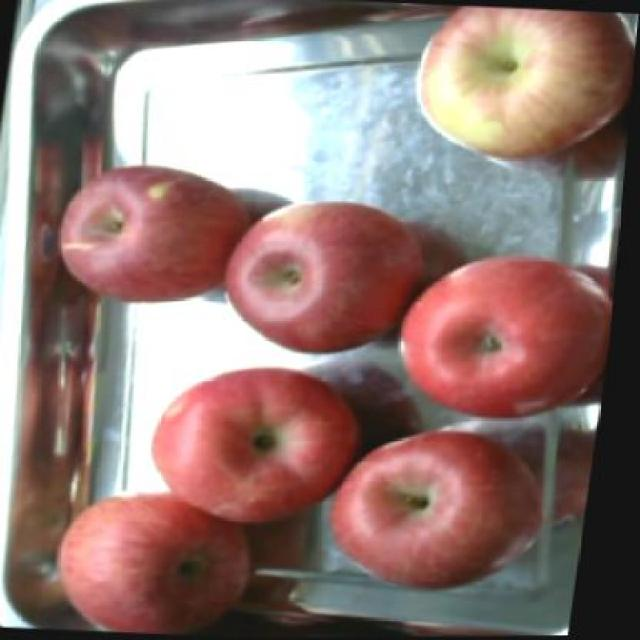Fresh Apple: (390, 268, 622, 422), (417, 9, 628, 168), (226, 208, 434, 358), (338, 443, 536, 585), (63, 494, 242, 640), (164, 380, 344, 518), (56, 171, 230, 300)
